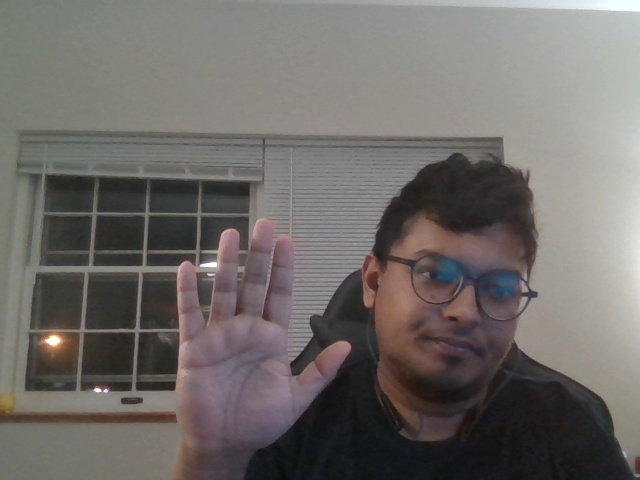hello: (166, 208, 356, 446)
